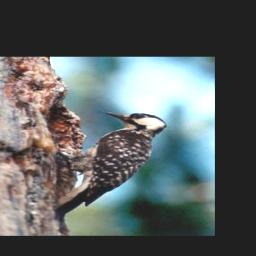Woodpecker: (47, 109, 180, 222)
